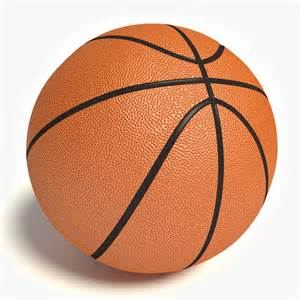basketball: (24, 20, 280, 277)
